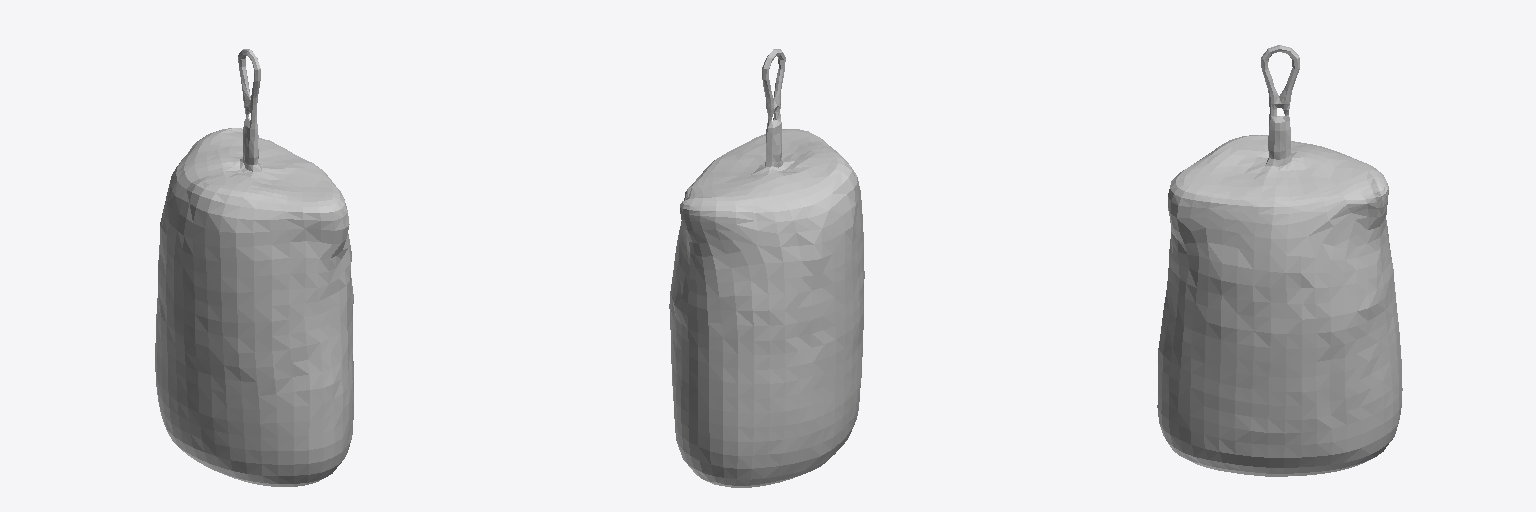
The model's file is blood.obj.
3 renders of one model, left to right at view 1: azimuth 30°, elevation 25°; view 2: azimuth 150°, elevation 25°; view 3: azimuth 270°, elevation 25°, orthographic.
Visible parts, largest first — view 1: mesh; view 2: mesh; view 3: mesh.
Part boxes in pixels (x1,y1,x2,y2): mesh: (155, 49, 353, 486); mesh: (669, 49, 864, 487); mesh: (1157, 45, 1402, 476).
Bounding box in the file's own units: 0.4002 × 0.9984 × 0.534.